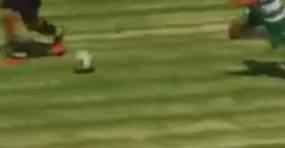ball: (72, 47, 99, 74)
